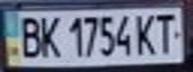1: (63, 12, 84, 57)
4: (112, 11, 136, 57)
5: (97, 12, 118, 57)
7: (81, 12, 100, 57)
B: (15, 12, 45, 60)
K: (36, 12, 63, 60), (133, 10, 160, 56)
T: (151, 10, 181, 55)
